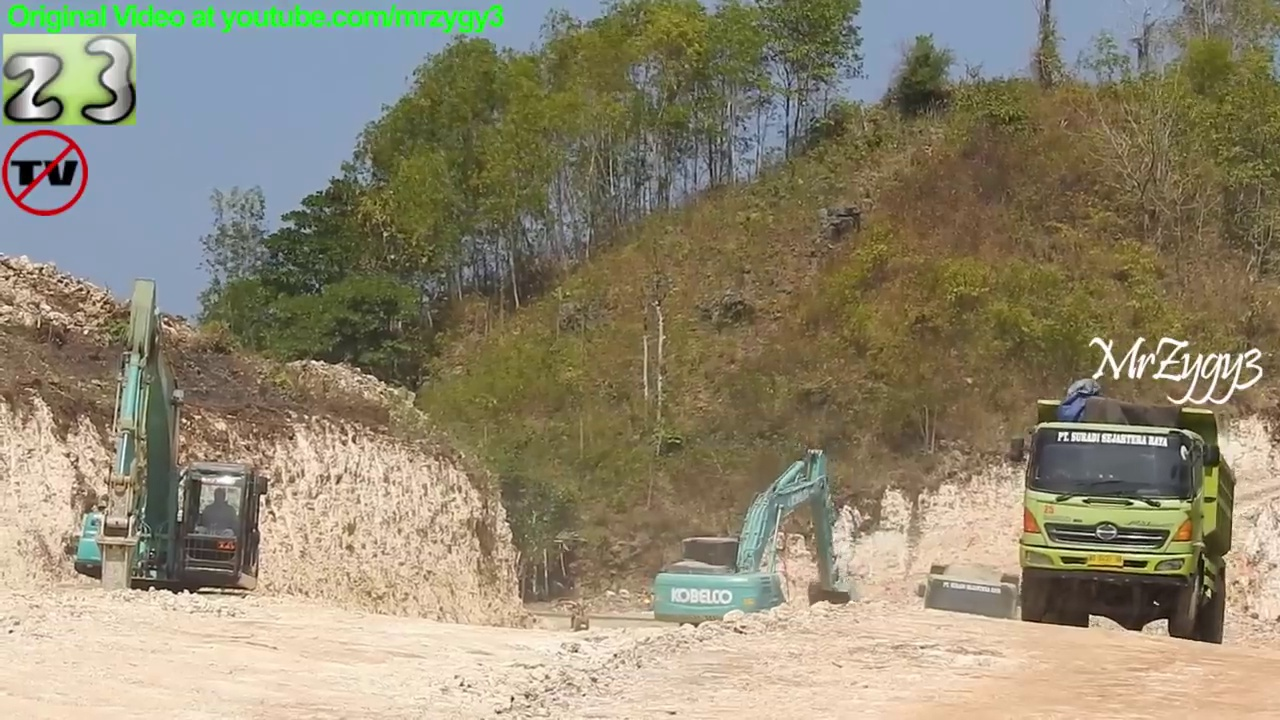excavator: (68, 274, 272, 643), (647, 444, 858, 659)
truck: (1006, 393, 1240, 650), (912, 557, 1030, 672)
